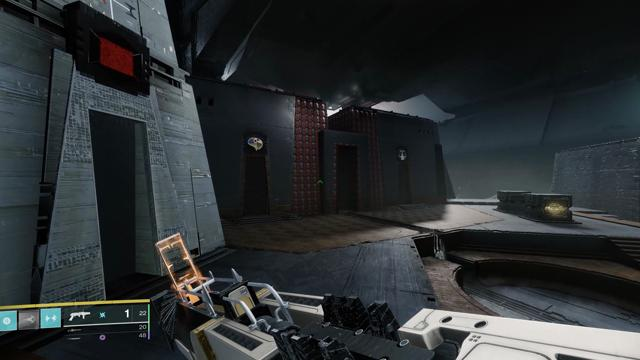brain: (245, 134, 265, 153)
drink: (398, 148, 407, 160)
stop: (88, 27, 142, 84)
